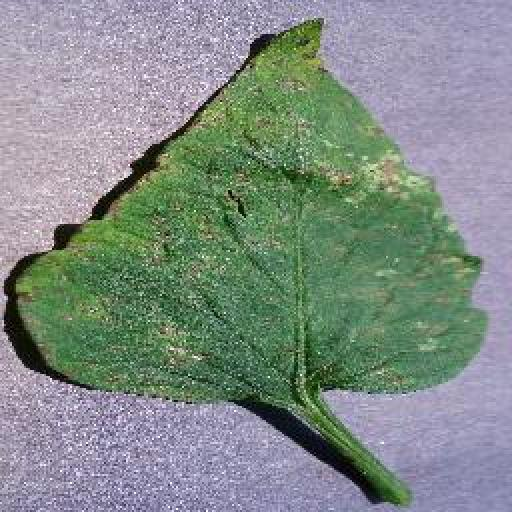Septoria: (17, 16, 488, 399)
